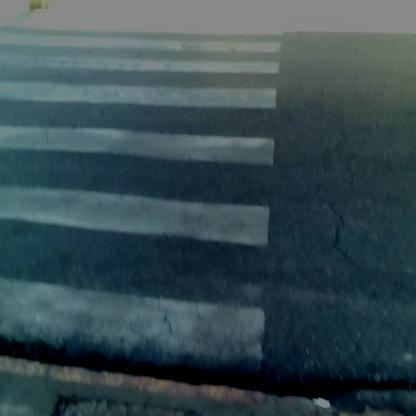crosswalk: (1, 35, 287, 416)
